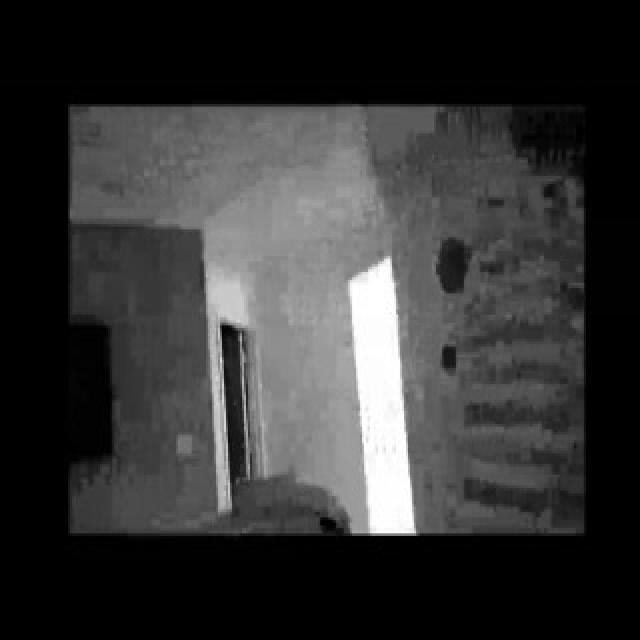thief: (462, 108, 585, 213)
